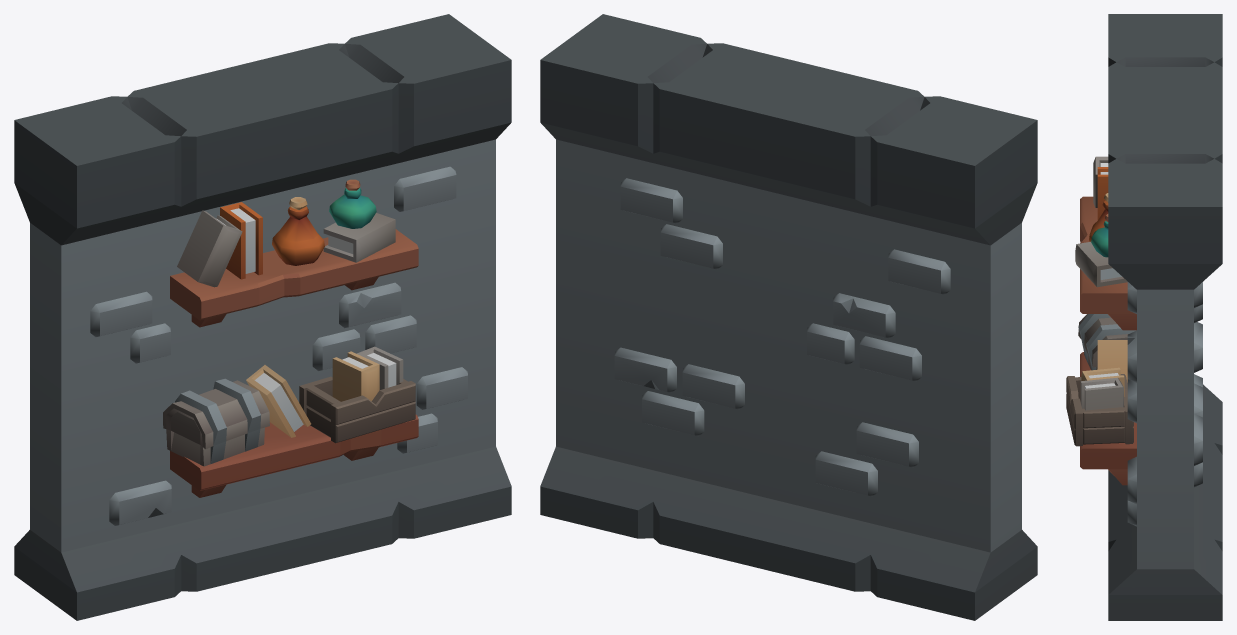
File: wall_shelves.glb
3 renders of one model, left to right at view 1: azimuth 30°, elevation 25°; view 2: azimuth 150°, elevation 25°; view 3: azimuth 270°, elevation 25°, orthographic. The views are drawn at different scales.
Visible parts, largest first — view 1: wall_shelves; view 2: wall_shelves; view 3: wall_shelves.
Part boxes in pixels (x1,y1,x2,y2): wall_shelves: (14, 14, 511, 620); wall_shelves: (540, 14, 1037, 620); wall_shelves: (1066, 14, 1222, 620).
Bounding box in the file's own units: 4 × 4 × 1.37.
